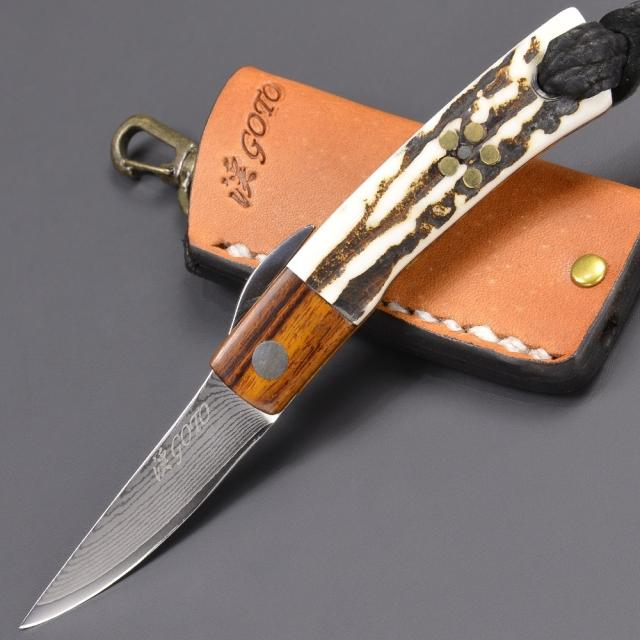knife: (16, 1, 629, 632)
